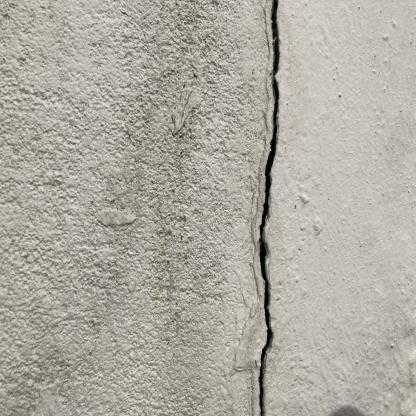crack: (254, 1, 284, 411)
